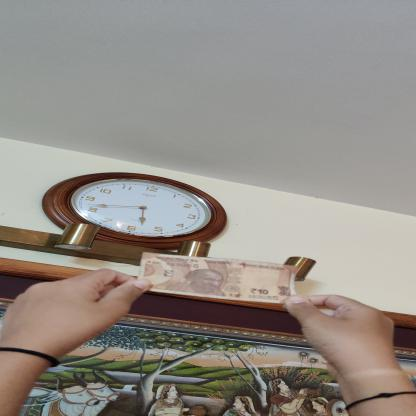New10Front: (137, 251, 300, 304)
